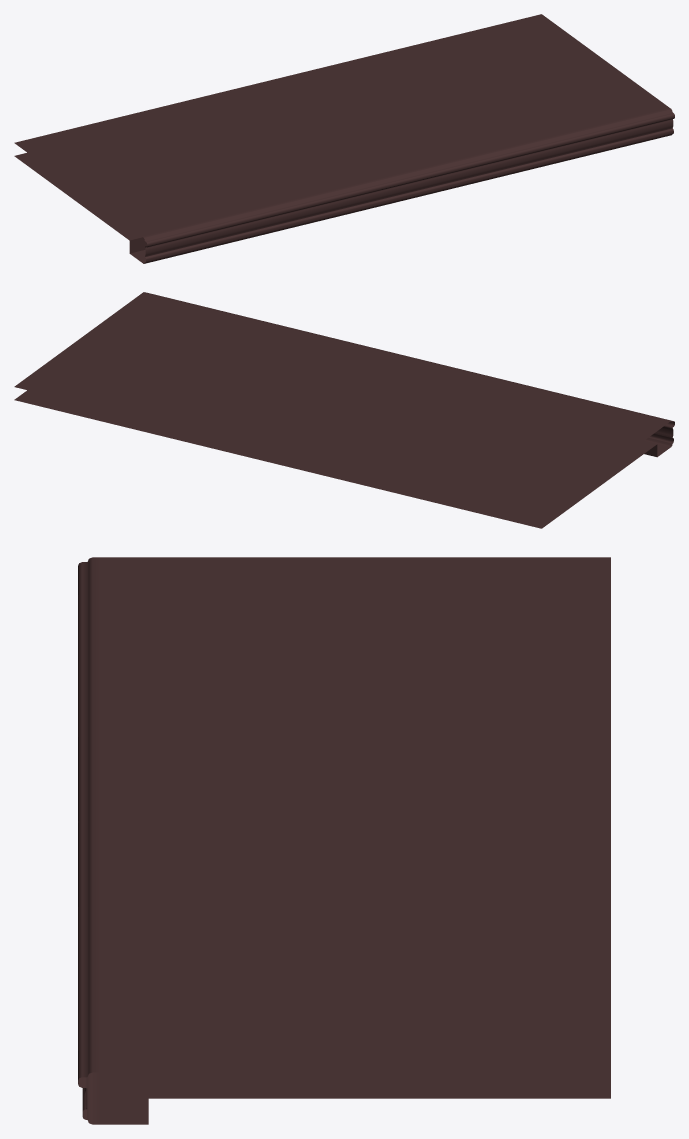
The model's file is LobbyFrontWalkway.fbx.
3 renders of one model, top to bottom at view 1: azimuth 30°, elevation 25°; view 2: azimuth 150°, elevation 25°; view 3: azimuth 270°, elevation 25°, orthographic. The views are drawn at different scales.
Parts seen in each view (by area): view 1: LobbyFrontWalkway; view 2: LobbyFrontWalkway; view 3: LobbyFrontWalkway.
Boxes of the visible parts, box(x1,y1,x2,y2) form: LobbyFrontWalkway: box(14, 14, 674, 263); LobbyFrontWalkway: box(14, 292, 674, 528); LobbyFrontWalkway: box(78, 557, 610, 1124).
Bounding box in the file's own units: 10.02 × 0.4749 × 4.38.
